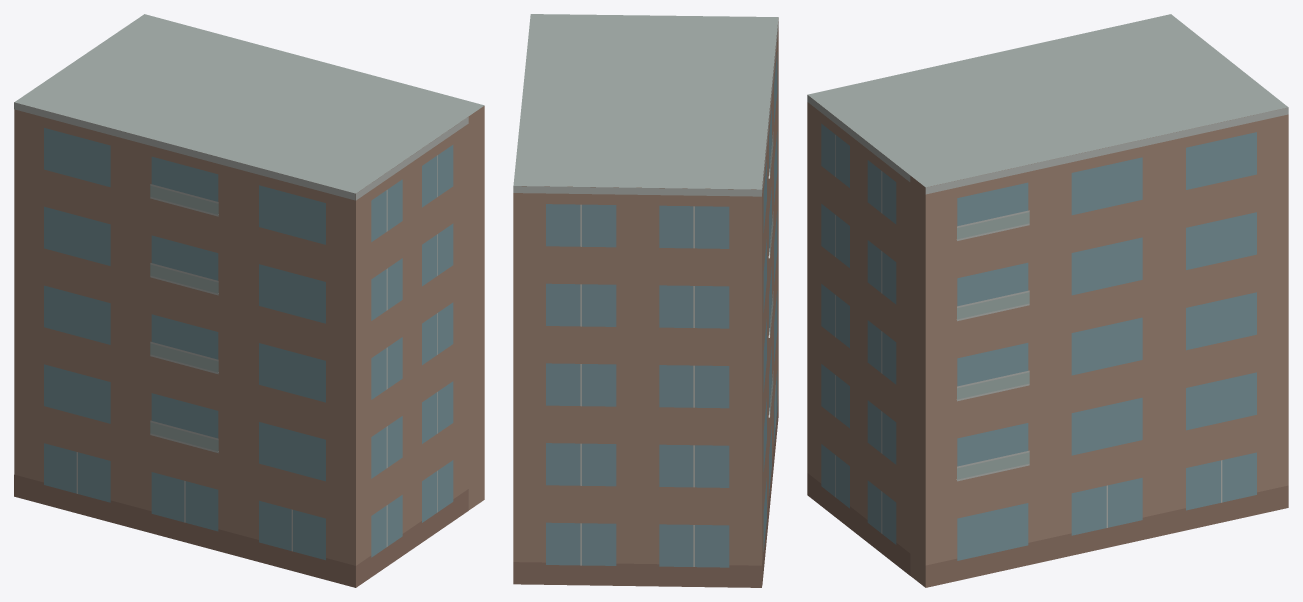
Rendered from survey-upis-32884346.glb.
3 views of the same model, side by side, from view 1: azimuth 30°, elevation 25°; view 2: azimuth 150°, elevation 25°; view 3: azimuth 270°, elevation 25° (orthographic).
Parts seen in each view (by area): view 1: survey-upis-32884346.tmp; view 2: survey-upis-32884346.tmp; view 3: survey-upis-32884346.tmp.
Part boxes in pixels (bbox=[...]): survey-upis-32884346.tmp: bbox=[14, 14, 484, 587]; survey-upis-32884346.tmp: bbox=[513, 14, 778, 587]; survey-upis-32884346.tmp: bbox=[807, 14, 1288, 587].
Size of the model in its own units: 12.73 by 13.7 by 14.93.
